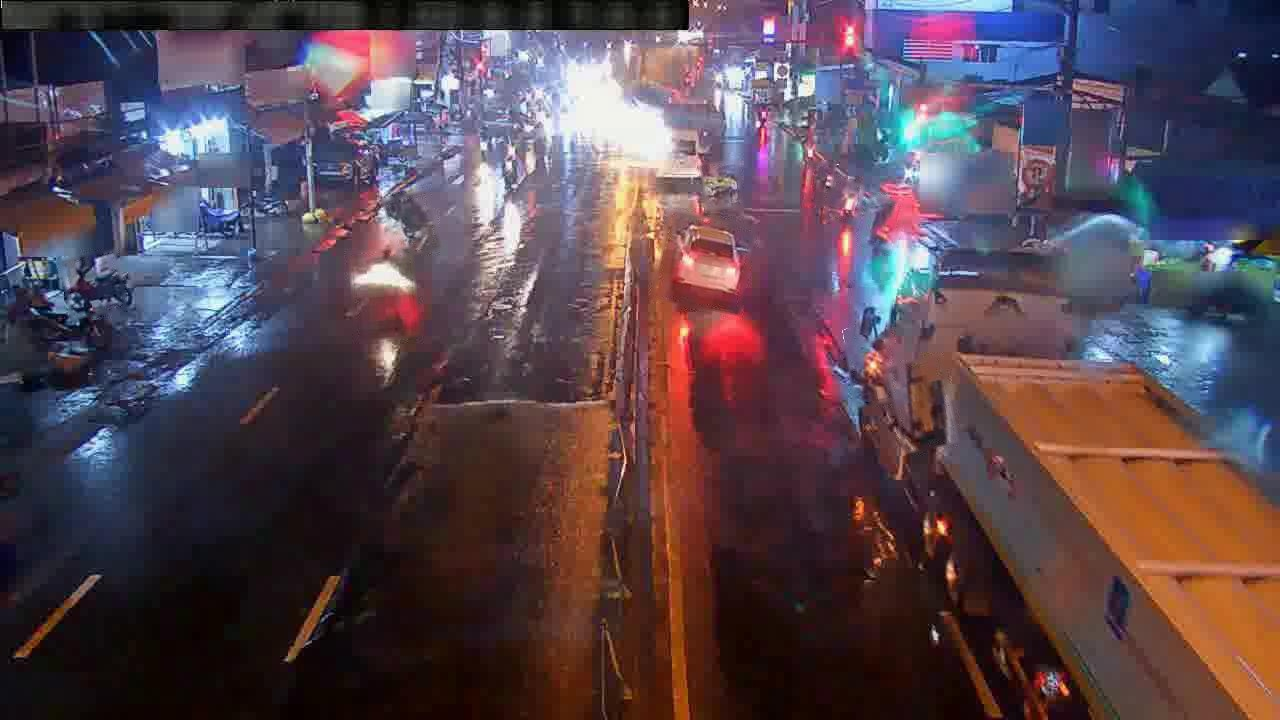Car: (672, 224, 741, 297)
Motorcyclist: (348, 248, 420, 333), (890, 366, 946, 447), (852, 327, 900, 403), (67, 257, 132, 313), (386, 193, 437, 251), (858, 289, 892, 342), (701, 165, 738, 208), (867, 199, 898, 249), (826, 182, 862, 223), (806, 162, 839, 206)
